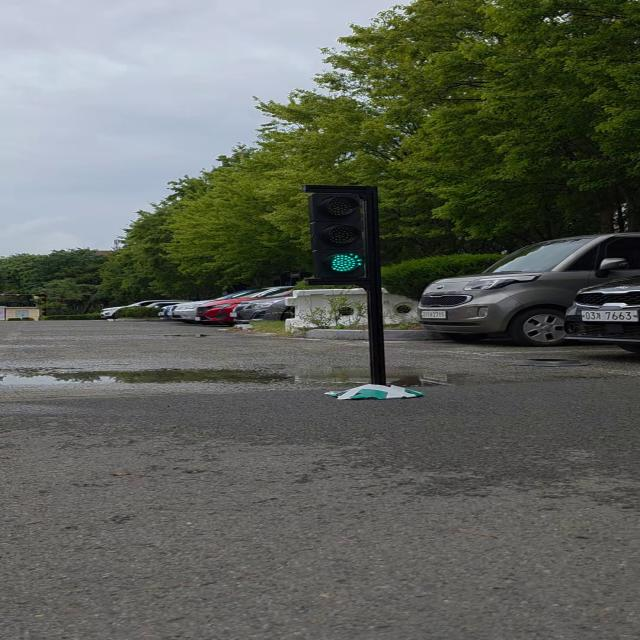green: (308, 189, 375, 281)
